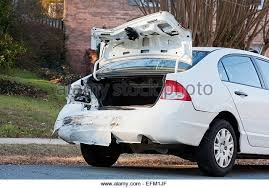Broken-glass: (65, 81, 93, 103)
Scratch: (58, 114, 119, 139)
Smashed: (53, 13, 178, 156)
